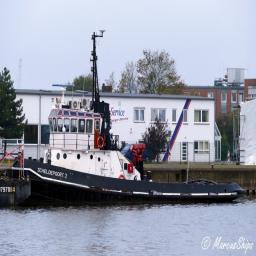tugboat: (13, 106, 249, 212)
